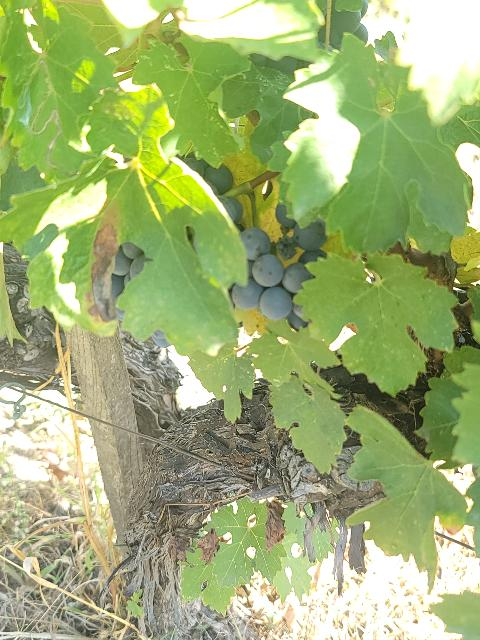grapes: (230, 204, 328, 330), (182, 156, 244, 229)
